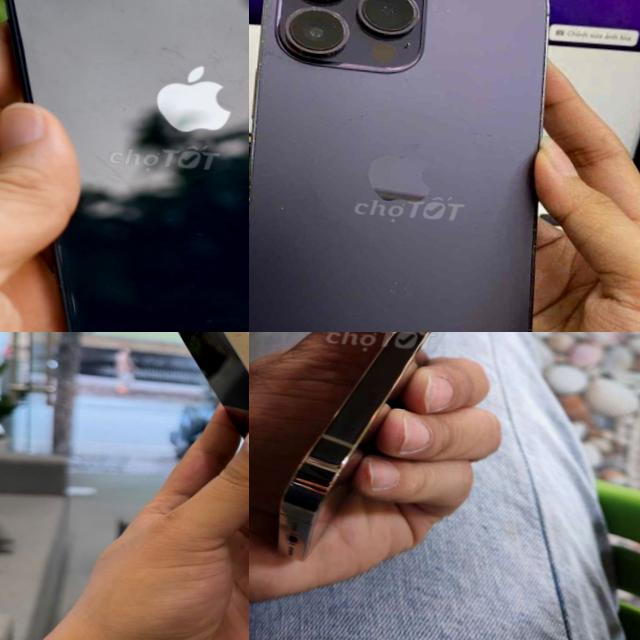gen_12_13: (0, 0, 249, 332), (258, 332, 550, 581)
gen_14: (249, 0, 574, 332), (144, 332, 249, 605)
